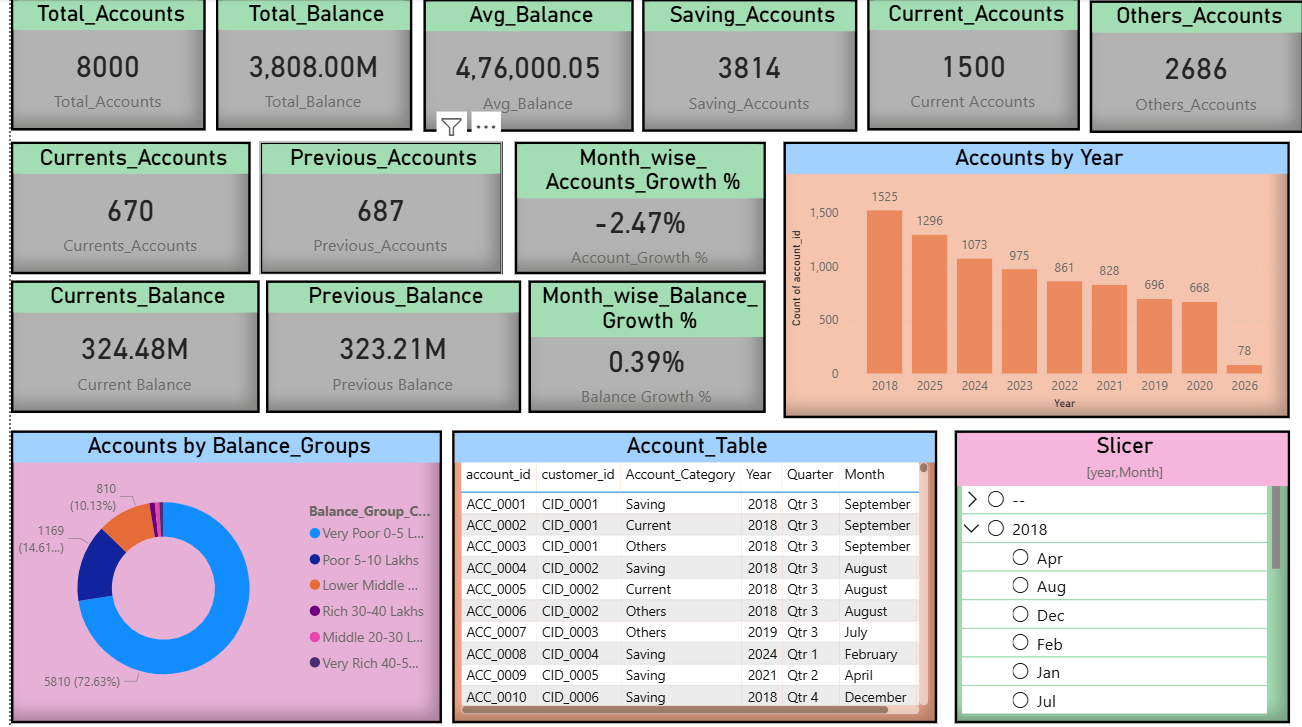

Layout of this report page (visuals, bound fields, positions):
{"tool":"powerbi","page":{"name":"Account_Analysis","canvas":[1280,720],"ordinal":1},"visuals":[{"type":"card","title":"Total_Accounts","fields":{"Values":["All Measures.Total_Accounts"]},"box":[0,0,190.8,129.6],"z":0},{"type":"card","title":"Total_Balance","fields":{"Values":["All Measures.Total Balance"]},"box":[200,0,191.7,129.8],"z":1000},{"type":"card","title":"Avg_Balance","fields":{"Values":["All Measures.Avg_Balance"]},"box":[403.6,1.2,206,129.8],"z":2000},{"type":"card","title":"Saving_Accounts","fields":{"Values":["All Measures.Saving_Accounts"]},"box":[617.9,1.2,210.7,129.8],"z":3000},{"type":"card","title":"Current_Accounts","fields":{"Values":["All Measures.Current Accounts"]},"box":[838.1,0,208.3,129.8],"z":4000},{"type":"card","title":"Others_Accounts","fields":{"Values":["All Measures.Others_Accounts"]},"box":[1054.8,2.4,209.5,129.8],"z":5000},{"type":"columnChart","title":"Accounts by Year","fields":{"Category":["Accounts_Data.Year"],"Y":["CountNonNull(Accounts_Data.account_id)"]},"box":[755.7,140.6,495.2,270.2],"z":6000},{"type":"donutChart","title":"Accounts by Balance_Groups","fields":{"Category":["Accounts_Data.Balance_Group_Category","Accounts_Data.Balance_Group"],"Y":["CountNonNull(Accounts_Data.account_id)"]},"box":[0,423.1,421.9,286.1],"z":7000},{"type":"card","title":"Currents_Accounts","fields":{"Values":["All Measures.Currents_Accounts"]},"box":[0,140.6,234.8,129.6],"z":8000},{"type":"card","title":"Previous_Accounts","fields":{"Values":["All Measures.Previous_Accounts"]},"box":[243.3,140.6,237.2,129.6],"z":9000},{"type":"card","title":"Month_wise_ Accounts_Growth %","fields":{"Values":["All Measures.Account_Growth %"]},"box":[492.8,140.6,245.8,129.6],"z":10000},{"type":"listSlicer","title":"Slicer","fields":{"Values":["Accounts_Data.Year","Accounts_Data.Month_Name"]},"box":[923.2,423.1,327.7,286.1],"z":11000},{"type":"card","title":"Currents_Balance","fields":{"Values":["All Measures.Current Balance"]},"box":[0,276.4,243.3,129.6],"z":12000},{"type":"card","title":"Previous_Balance","fields":{"Values":["All Measures.Previous Balance"]},"box":[249.5,276.4,249.5,129.6],"z":13000},{"type":"card","title":"Month_wise_Balance_Growth %","fields":{"Values":["All Measures.Balance Growth %"]},"box":[506.3,276.4,232.3,129.6],"z":14000},{"type":"tableEx","title":"Account_Table","fields":{"Values":["Accounts_Data.account_id","Accounts_Data.customer_id","Accounts_Data.Account_Category","Accounts_Data.account_open_date.Variation.Date Hierarchy.Year","Accounts_Data.account_open_date.Variation.Date Hierarchy.Quarter","Accounts_Data.account_open_date.Variation.Date Hierarchy.Month","Accounts_Data.account_open_date.Variation.Date Hierarchy.Day"]},"box":[431.7,423.1,474.5,286.1],"z":15000}]}

Visuals, with their boxes in screenshot pixels (x1, y1, x2, y2), scaled from the page's 1280x720 canvas onto the 1302x727 screenshot:
"Total_Accounts" card: 0:0:194:131
"Total_Balance" card: 203:0:398:131
"Avg_Balance" card: 411:1:620:132
"Saving_Accounts" card: 629:1:843:132
"Current_Accounts" card: 853:0:1064:131
"Others_Accounts" card: 1073:2:1286:133
"Accounts by Year" columnChart: 769:142:1272:415
"Accounts by Balance_Groups" donutChart: 0:427:429:716
"Currents_Accounts" card: 0:142:239:273
"Previous_Accounts" card: 247:142:489:273
"Month_wise_ Accounts_Growth %" card: 501:142:751:273
"Slicer" listSlicer: 939:427:1272:716
"Currents_Balance" card: 0:279:247:410
"Previous_Balance" card: 254:279:508:410
"Month_wise_Balance_Growth %" card: 515:279:751:410
"Account_Table" tableEx: 439:427:922:716
